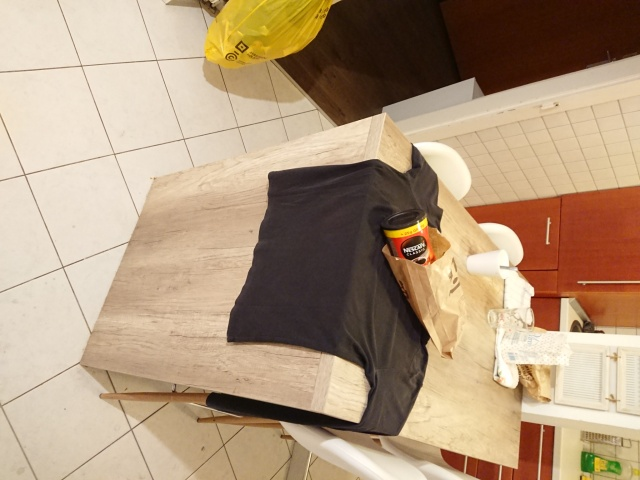Nescafe Classic 225g: (377, 206, 444, 285)
